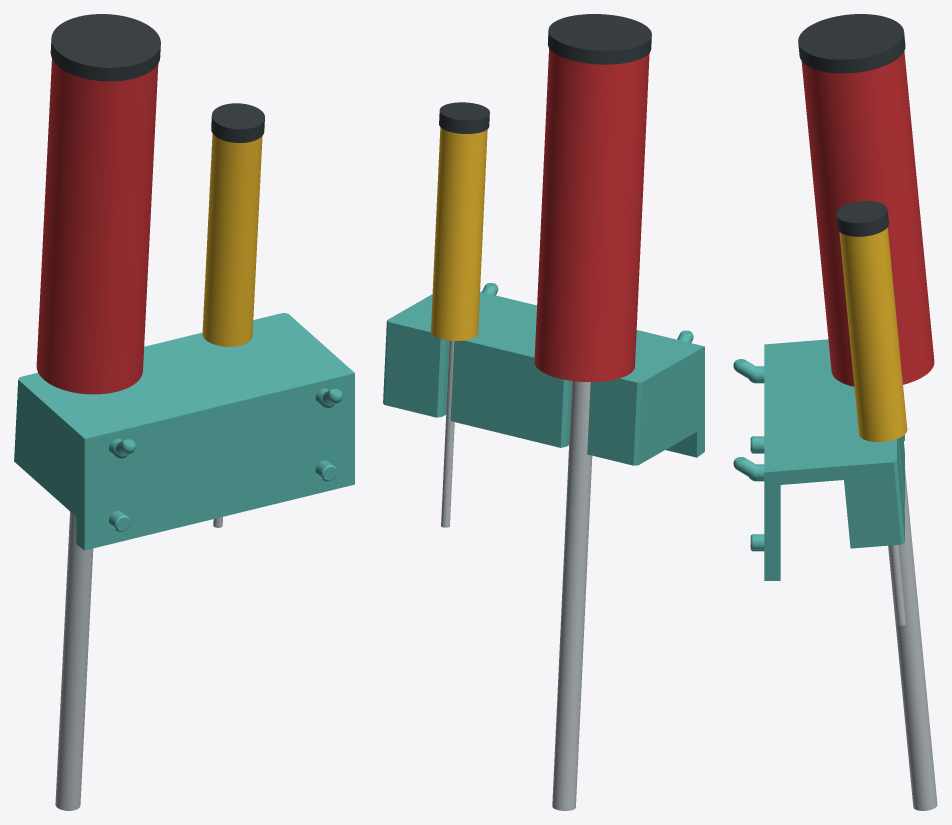
File: part-mb01-magnetic-shaft-bar-f__v1__loaded.glb
The picture shows the model from 3 angles, left to right: view 1: azimuth 30°, elevation 25°; view 2: azimuth 150°, elevation 25°; view 3: azimuth 270°, elevation 25°; orthographic projection. The views are drawn at different scales.
Visible parts, largest first — view 1: Actual holder mesh, Illustrative tool envelope.004, Illustrative tool envelope.001, Illustrative tool envelope.003, Illustrative tool envelope.005, Illustrative tool envelope.002; view 2: Illustrative tool envelope.004, Actual holder mesh, Illustrative tool envelope.003, Illustrative tool envelope.001, Illustrative tool envelope.005, Illustrative tool envelope, Illustrative tool envelope.002; view 3: Illustrative tool envelope.004, Actual holder mesh, Illustrative tool envelope.001, Illustrative tool envelope.003, Illustrative tool envelope.005, Illustrative tool envelope.002, Illustrative tool envelope.
Boxes of the visible parts, x1,y1,x2,y2 form: Actual holder mesh: (14, 313, 354, 550); Illustrative tool envelope.004: (36, 59, 158, 394); Illustrative tool envelope.001: (202, 133, 262, 346); Illustrative tool envelope.003: (55, 511, 93, 810); Illustrative tool envelope.005: (50, 14, 160, 81); Illustrative tool envelope.002: (211, 103, 264, 142); Illustrative tool envelope.004: (534, 48, 649, 381); Actual holder mesh: (383, 283, 704, 465); Illustrative tool envelope.003: (552, 381, 592, 810); Illustrative tool envelope.001: (431, 127, 487, 340); Illustrative tool envelope.005: (548, 14, 651, 64); Illustrative tool envelope: (441, 340, 454, 527); Illustrative tool envelope.002: (439, 102, 489, 133); Illustrative tool envelope.004: (801, 51, 934, 386); Actual holder mesh: (733, 339, 904, 580); Illustrative tool envelope.001: (839, 227, 907, 441); Illustrative tool envelope.003: (888, 470, 937, 810); Illustrative tool envelope.005: (798, 14, 905, 73); Illustrative tool envelope.002: (836, 201, 888, 236); Illustrative tool envelope: (889, 545, 906, 625).
Size of the model in its own units: 0.0996 by 0.2808 by 0.0671.
